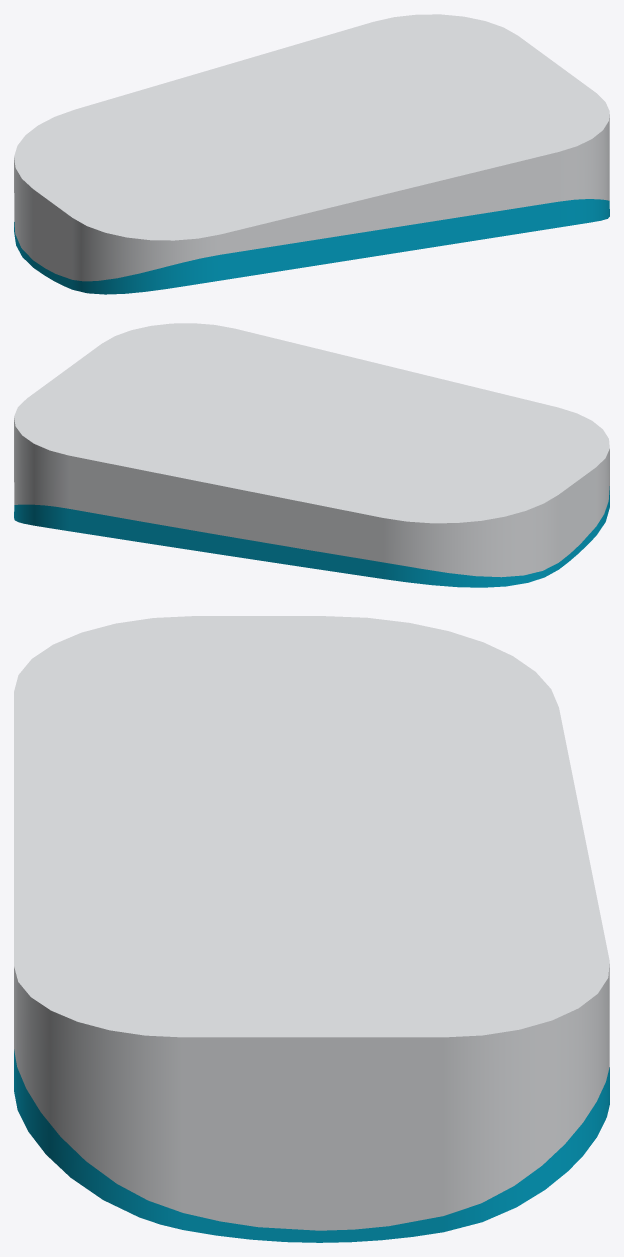
3 views of the same model, one above another, from view 1: azimuth 30°, elevation 25°; view 2: azimuth 150°, elevation 25°; view 3: azimuth 270°, elevation 25° (orthographic). The views are drawn at different scales.
Parts seen in each view (by area): view 1: =>[0:1:1:2], =>[0:1:1:4]; view 2: =>[0:1:1:2], =>[0:1:1:4]; view 3: =>[0:1:1:2], =>[0:1:1:4].
Boxes of the visible parts, left/top/right/bottom form: =>[0:1:1:2]: left=14, top=14, right=609, bottom=281; =>[0:1:1:4]: left=14, top=199, right=609, bottom=294; =>[0:1:1:2]: left=14, top=323, right=609, bottom=577; =>[0:1:1:4]: left=14, top=486, right=609, bottom=587; =>[0:1:1:2]: left=14, top=616, right=609, bottom=1230; =>[0:1:1:4]: left=14, top=1049, right=609, bottom=1242.
Size of the model in its own units: 38.92 by 8.85 by 23.27.
